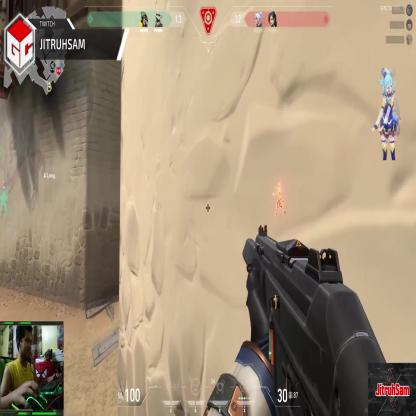enemy: (272, 180, 286, 216)
enemy_head: (277, 181, 281, 190)
